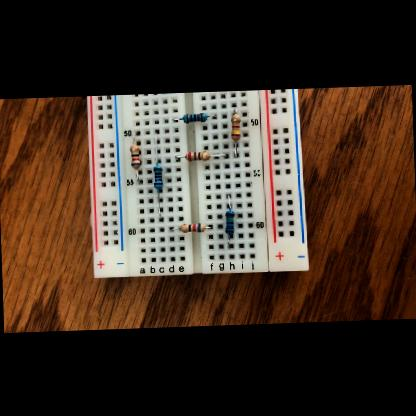breadboard: (87, 88, 309, 277)
resistor: (229, 114, 241, 140), (225, 209, 236, 233), (183, 111, 207, 122), (130, 142, 140, 168), (153, 164, 163, 188), (186, 150, 210, 160), (180, 223, 206, 232)
wire: (155, 130, 159, 164), (158, 188, 162, 219), (227, 233, 233, 247), (136, 168, 142, 182), (133, 131, 140, 142), (211, 152, 227, 156), (228, 194, 232, 209), (175, 154, 185, 160), (234, 142, 238, 156), (170, 226, 180, 230), (207, 115, 216, 118), (234, 107, 238, 113), (173, 118, 183, 120), (206, 226, 212, 228)
